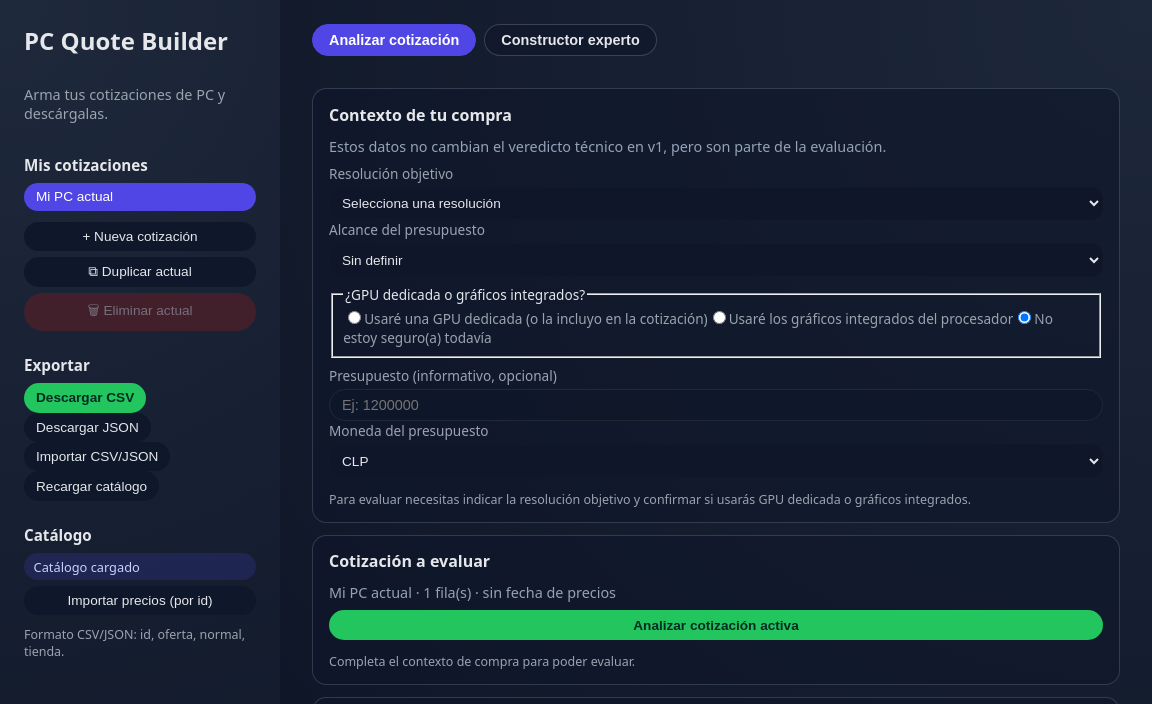
Test: Builder assessment and compatibility display › shows 'Build completo' status pill when all steps are done
The image size is (1152, 704).
Click the button "Constructor experto". click: (571, 40)
box: x1=484 y1=24 x2=657 y2=56
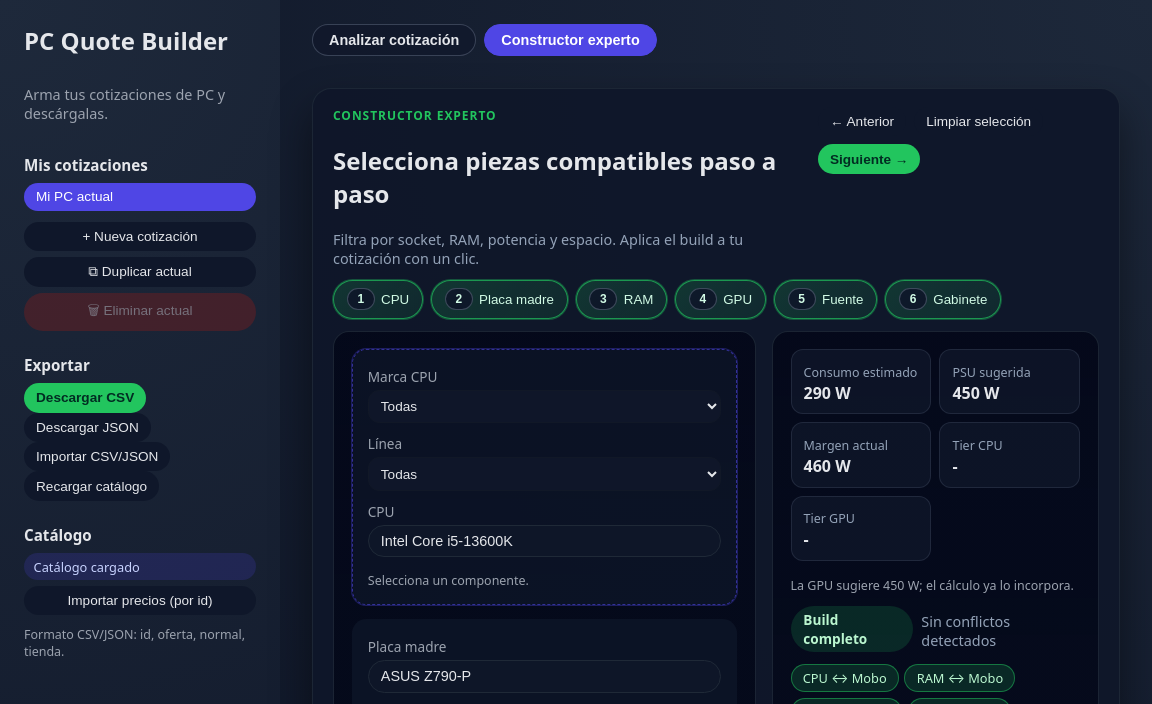
Check: the text "Build completo" is shown, box x1=790 y1=606 x2=913 y2=652
